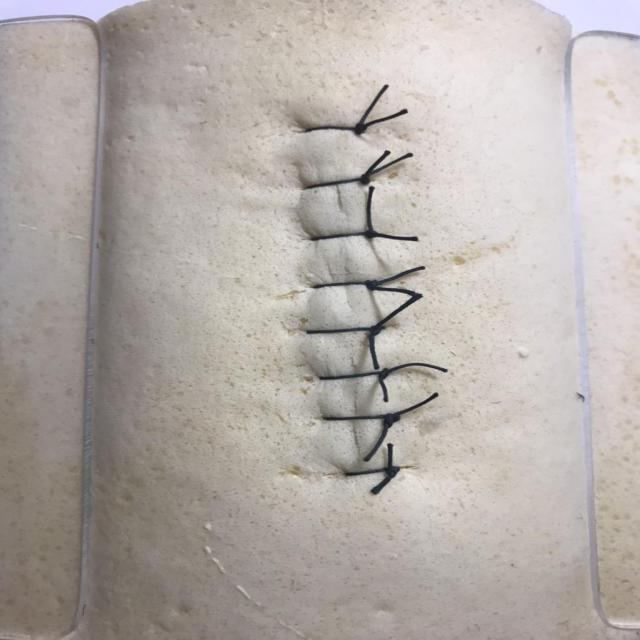knot: (384, 414, 400, 426), (386, 467, 400, 478), (370, 326, 386, 335), (356, 124, 368, 135), (365, 281, 377, 291), (379, 368, 389, 379), (366, 230, 377, 238), (361, 175, 370, 184)
leftover: (371, 293, 423, 332), (357, 82, 390, 130), (362, 415, 393, 463), (362, 152, 415, 180), (388, 391, 440, 419), (369, 265, 427, 287), (358, 108, 409, 130), (378, 362, 449, 376), (362, 149, 391, 180), (370, 467, 399, 495), (369, 283, 417, 296), (368, 231, 420, 241), (369, 328, 379, 372), (366, 184, 374, 235), (378, 372, 389, 404), (386, 441, 393, 472)
stitch: (303, 175, 371, 190), (310, 231, 379, 241), (303, 326, 383, 334), (317, 372, 390, 380), (310, 281, 379, 289), (302, 125, 369, 133), (343, 467, 402, 476), (320, 415, 403, 421)
wound: (329, 106, 367, 490)
